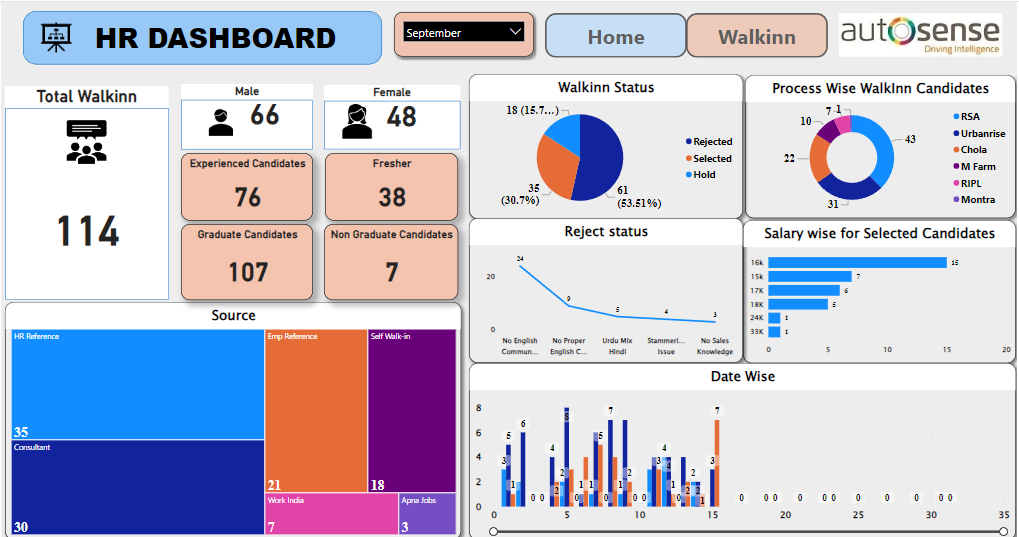

The page's visual inventory and layout, read from the dashboard file:
{"tool":"powerbi","page":{"name":"Walkinn","canvas":[1800,970],"ordinal":1},"visuals":[{"type":"shape","title":"Total Walkinn","box":[7.7,149,290.3,379.4],"z":0},{"type":"actionButton","title":"ngngn","box":[963.9,19.4,251.6,79.3],"z":1000},{"type":"actionButton","title":"ngngn","box":[1215.5,19.4,251.6,79.3],"z":2000},{"type":"card","title":"Total WalkInn","fields":{"Values":["WalkInn.count_walkinn"]},"box":[42.6,315.5,218.7,156.8],"z":3000},{"type":"image","box":[73.5,197.4,156.8,102.6],"z":4000},{"type":"slicer","fields":{"Values":["WalkInn.Interview_Month"]},"box":[696.8,17.4,247.7,79.3],"z":5000},{"type":"pieChart","title":"Walkinn Status","fields":{"Y":["WalkInn.count_walkinn"],"Category":["WalkInn.Sel/ Rej/ Hold","WalkInn.Process"]},"box":[830.3,127.7,485.8,257.4],"z":6000},{"type":"lineChart","title":"Reject status","fields":{"Category":["WalkInn.IF Rej/Hold Mention Reason"],"Y":["WalkInn.count_walkinn"]},"box":[830.3,383.2,485.8,257.4],"z":7000},{"type":"shape","title":"Male","box":[319.4,145.2,234.2,116.1],"z":8000},{"type":"card","title":"Total WalkInn","fields":{"Values":["WalkInn.count_walkinn_Male"]},"box":[358.1,118.1,218.7,149],"z":9000},{"type":"image","box":[352.2,176.1,73.5,77.4],"z":10000},{"type":"shape","title":"Female","box":[572.9,147.1,241.9,114.2],"z":11000},{"type":"card","title":"Total WalkInn","fields":{"Values":["WalkInn.count_Female_walkinn"]},"box":[601.9,121.9,218.7,149],"z":12000},{"type":"image","box":[586.5,166.4,89,94.8],"z":13000},{"type":"donutChart","title":"Process Wise WalkInn Candidates","fields":{"Y":["CountNonNull(WalkInn.Process)"],"Category":["WalkInn.Process"]},"box":[1320,129.7,480,253.5],"z":14000},{"type":"card","title":"Fresher","fields":{"Values":["CountNonNull(WalkInn.Fresher /Exp )"]},"box":[574.8,267.1,236.1,120],"z":15000},{"type":"card","title":"Experienced Candidates","fields":{"Values":["CountNonNull(WalkInn.Fresher /Exp )"]},"box":[319.4,267.1,234.2,120],"z":16000},{"type":"treemap","title":"Source","fields":{"Group":["WalkInn.Source","WalkInn.Sub- Source"],"Values":["WalkInn.count_walkinn"]},"box":[7.7,532.2,809,421.9],"z":17000},{"type":"barChart","title":"Salary wise for Selected Candidates","fields":{"Category":["WalkInn.Salary Discussed "],"Y":["WalkInn.count_walkinn"]},"box":[1316.1,387.1,483.9,253.5],"z":18000},{"type":"card","title":"Graduate Candidates","fields":{"Values":["WalkInn.count_walkinn"]},"box":[319.4,392.9,234.2,135.5],"z":19000},{"type":"lineClusteredColumnComboChart","title":"Date Wise","fields":{"Category":["WalkInn.Interview Date .Variation.Date Hierarchy.Day"],"Series":["WalkInn.Sel/ Rej/ Hold"],"Y":["WalkInn.count_walkinn"]},"box":[830.3,640.6,969.7,313.5],"z":20000},{"type":"card","title":"Non Graduate Candidates","fields":{"Values":["WalkInn.count_walkinn"]},"box":[572.9,392.9,238.1,135.5],"z":21000},{"type":"shape","box":[38.7,15.5,636.8,94.8],"z":22000},{"type":"textbox","box":[160.6,23.2,499.4,87.1],"z":23000},{"type":"image","box":[52.2,23.2,92.9,79.3],"z":24000},{"type":"image","box":[1480.6,9.7,300,98.7],"z":24001}]}

Visuals, with their boxes in screenshot pixels (x1, y1, x2, y2), scaled from the page's 1800x970 canvas onto the 1019x537 screenshot:
"Total Walkinn" shape: (x1=4, y1=82, x2=169, y2=293)
"ngngn" actionButton: (x1=546, y1=11, x2=688, y2=55)
"ngngn" actionButton: (x1=688, y1=11, x2=831, y2=55)
"Total WalkInn" card: (x1=24, y1=175, x2=148, y2=261)
image: (x1=42, y1=109, x2=130, y2=166)
slicer - WalkInn.Interview_Month: (x1=394, y1=10, x2=535, y2=54)
"Walkinn Status" pieChart: (x1=470, y1=71, x2=745, y2=213)
"Reject status" lineChart: (x1=470, y1=212, x2=745, y2=355)
"Male" shape: (x1=181, y1=80, x2=313, y2=145)
"Total WalkInn" card: (x1=203, y1=65, x2=327, y2=148)
image: (x1=199, y1=97, x2=241, y2=140)
"Female" shape: (x1=324, y1=81, x2=461, y2=145)
"Total WalkInn" card: (x1=341, y1=67, x2=465, y2=150)
image: (x1=332, y1=92, x2=382, y2=145)
"Process Wise WalkInn Candidates" donutChart: (x1=747, y1=72, x2=1018, y2=212)
"Fresher" card: (x1=325, y1=148, x2=459, y2=214)
"Experienced Candidates" card: (x1=181, y1=148, x2=313, y2=214)
"Source" treemap: (x1=4, y1=295, x2=462, y2=528)
"Salary wise for Selected Candidates" barChart: (x1=745, y1=214, x2=1018, y2=355)
"Graduate Candidates" card: (x1=181, y1=218, x2=313, y2=293)
"Date Wise" lineClusteredColumnComboChart: (x1=470, y1=355, x2=1018, y2=528)
"Non Graduate Candidates" card: (x1=324, y1=218, x2=459, y2=293)
shape: (x1=22, y1=9, x2=382, y2=61)
textbox: (x1=91, y1=13, x2=374, y2=61)
image: (x1=30, y1=13, x2=82, y2=57)
image: (x1=838, y1=5, x2=1008, y2=60)
